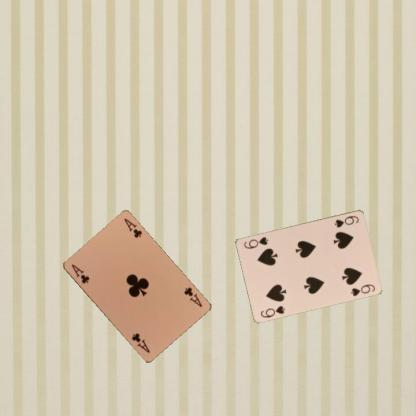6s: (258, 303, 287, 319), (332, 212, 360, 228)
Ac: (181, 284, 203, 309), (68, 261, 90, 285)
